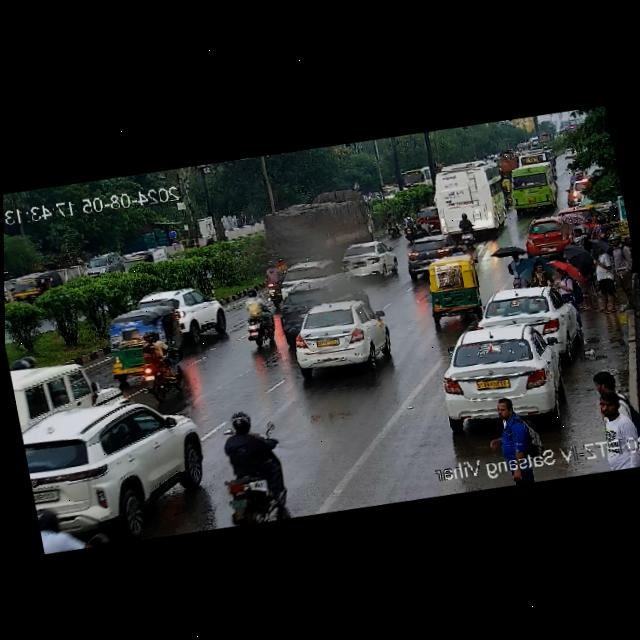bus: (506, 159, 564, 218), (513, 142, 561, 170), (398, 165, 433, 195), (496, 147, 520, 177)
car: (17, 379, 217, 555), (429, 307, 580, 433), (470, 276, 585, 370), (284, 288, 395, 381), (9, 353, 122, 428), (98, 301, 187, 387), (419, 251, 486, 326), (148, 278, 227, 340), (337, 235, 399, 282), (277, 254, 348, 295), (9, 267, 70, 309), (520, 213, 572, 260), (404, 230, 461, 269), (77, 248, 125, 288), (121, 242, 159, 278), (413, 200, 445, 237), (561, 175, 597, 206)
motorcycle: (210, 410, 295, 529), (135, 327, 181, 395), (235, 289, 278, 351), (261, 257, 286, 309), (456, 213, 482, 251), (398, 211, 420, 242)
person: (482, 396, 548, 489), (510, 249, 590, 320), (589, 365, 640, 471)
truck: (264, 186, 375, 269), (423, 158, 509, 241)
